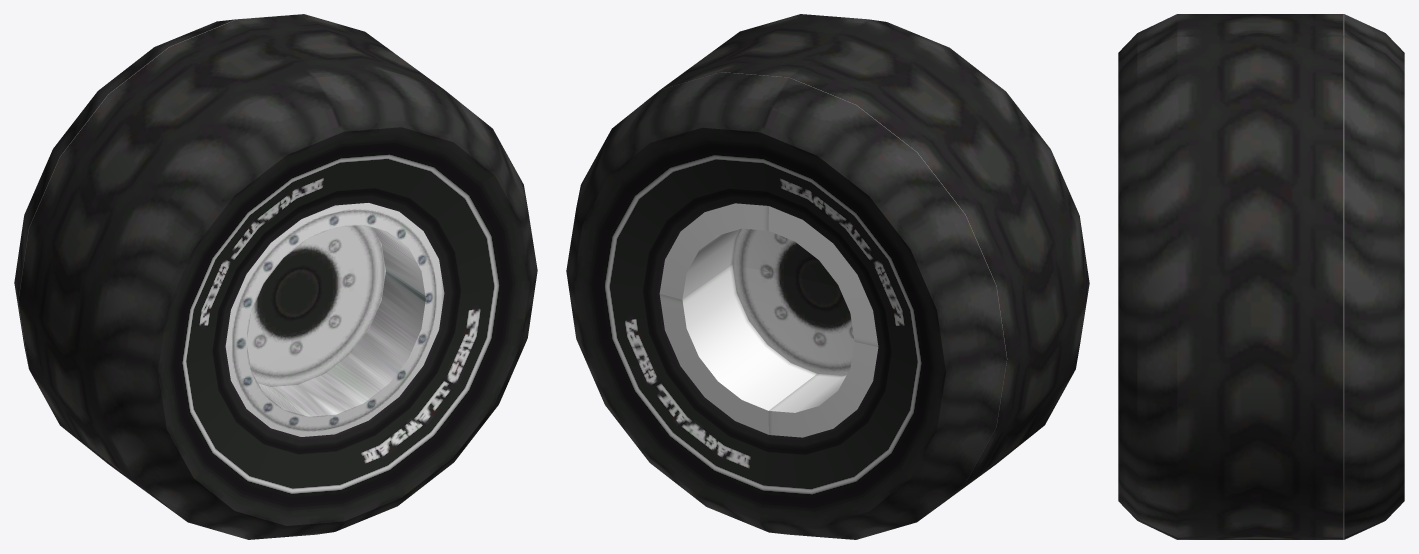
The model's file is tyre_2.glb.
3 renders of one model, left to right at view 1: azimuth 30°, elevation 25°; view 2: azimuth 150°, elevation 25°; view 3: azimuth 270°, elevation 25°, orthographic. The views are drawn at different scales.
Parts seen in each view (by area): view 1: mesh_30_110nr_mat_32007_0; view 2: mesh_30_110nr_mat_32007_0; view 3: mesh_30_110nr_mat_32007_0.
Boxes of the visible parts, x1,y1,x2,y2 form: mesh_30_110nr_mat_32007_0: (14, 14, 537, 539); mesh_30_110nr_mat_32007_0: (566, 14, 1089, 539); mesh_30_110nr_mat_32007_0: (1118, 14, 1404, 539).
Size of the model in its own units: 1.43 by 1.43 by 0.7726.
1 material, 1 textured.
